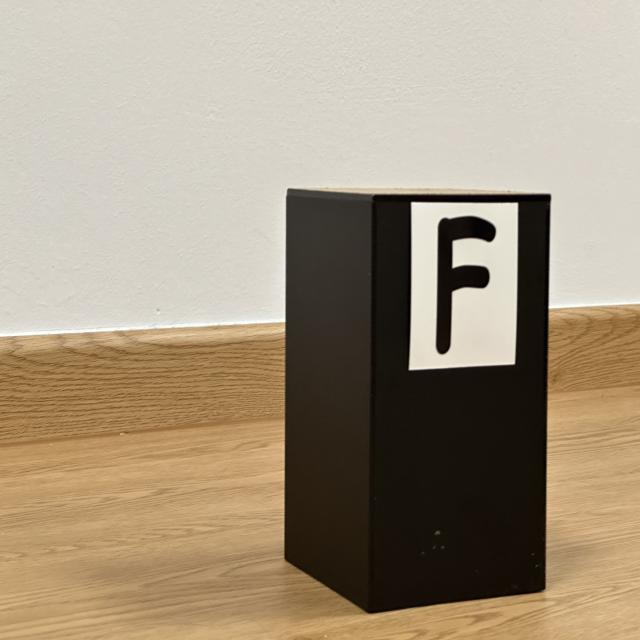F: (436, 217, 496, 353)
